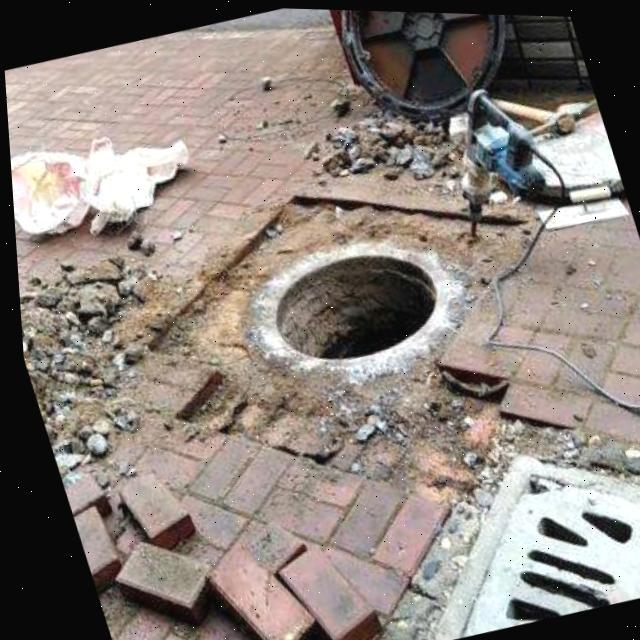manhole: (207, 188, 486, 413)
